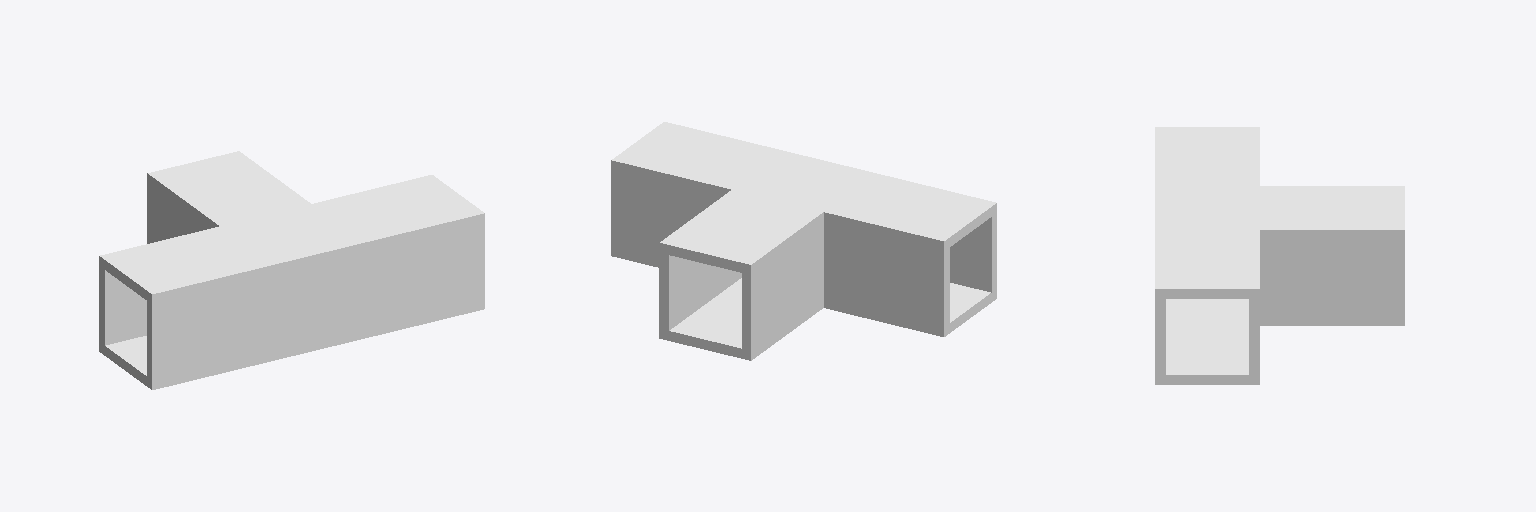
File: vent_razvilka.obj
The picture shows the model from 3 angles: view 1: azimuth 30°, elevation 25°; view 2: azimuth 150°, elevation 25°; view 3: azimuth 270°, elevation 25°; orthographic projection.
Parts seen in each view (by area): view 1: object 1; view 2: object 1; view 3: object 1.
Part boxes in pixels (left/top/right/bottom): object 1: left=99, top=151, right=484, bottom=389; object 1: left=611, top=122, right=996, bottom=360; object 1: left=1155, top=127, right=1404, bottom=384.
Size of the model in its own units: 6.9 by 1.9 by 4.5.